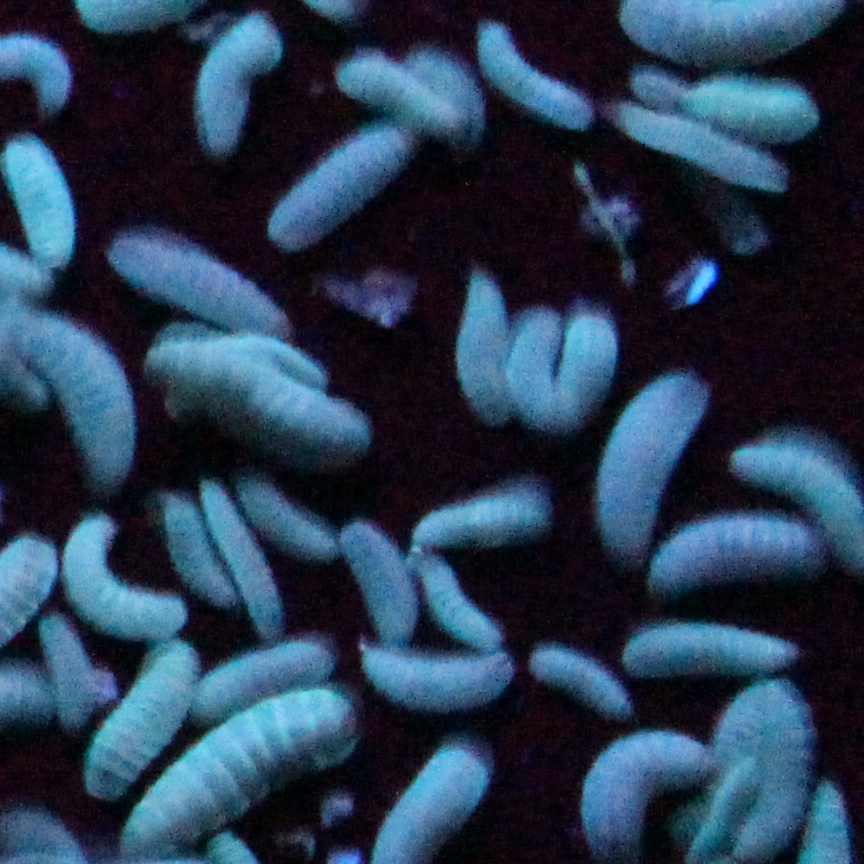larve: (127, 691, 359, 860), (152, 331, 366, 456), (599, 368, 710, 564), (5, 315, 134, 482), (270, 121, 419, 256), (113, 229, 293, 336), (84, 640, 201, 796), (58, 514, 185, 640), (615, 103, 787, 191), (199, 474, 282, 640), (650, 516, 821, 596), (475, 23, 591, 129), (193, 15, 285, 148), (195, 642, 335, 725), (344, 46, 468, 138), (619, 619, 799, 677), (333, 519, 416, 642), (362, 647, 516, 710), (454, 270, 513, 429), (238, 471, 341, 562), (413, 484, 552, 551), (701, 74, 821, 150), (164, 493, 239, 605), (528, 644, 635, 722), (416, 554, 504, 648), (38, 611, 98, 730), (564, 309, 617, 434), (513, 309, 558, 427), (409, 48, 481, 117), (246, 338, 324, 385), (636, 72, 689, 111)
